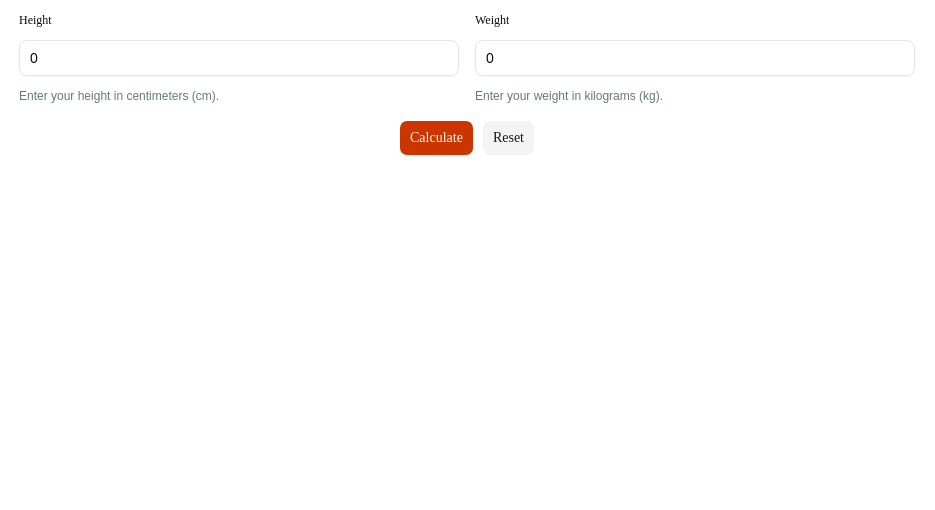
Test: Bmi › onFormSubmit success › calculates bmi for height=170 and weight=65
Replace the text in the field labelled "Height" with "170": (239, 58) [19,40,459,76]
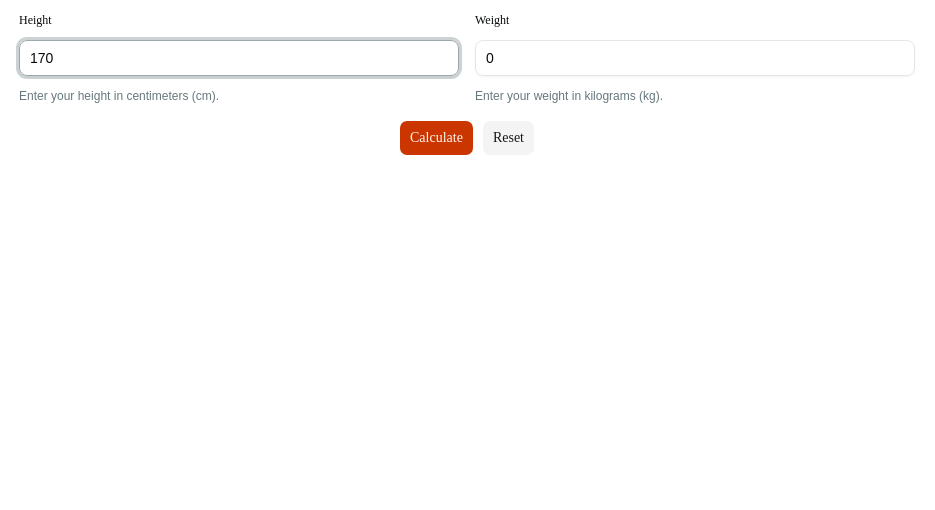
Replace the text in the field labelled "Weight" with "65": (695, 58) [475,40,915,76]
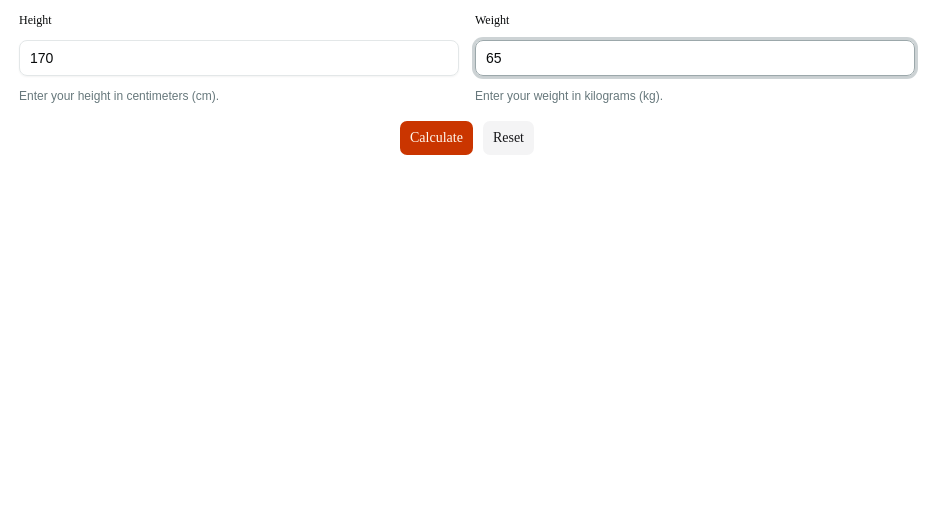
Click the button with aria-label "calculate bmi": (436, 138) [399,120,474,156]
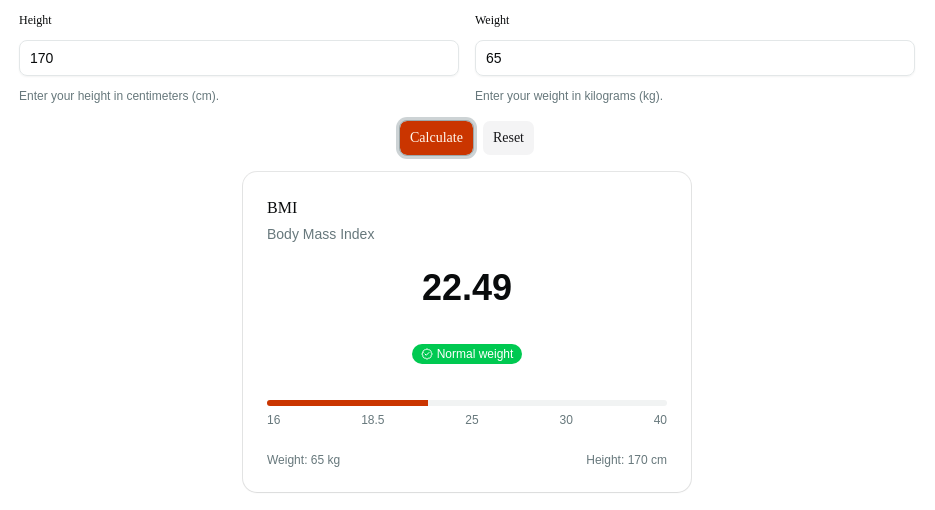
Now the text "Normal weight" is shown, box [412,344,522,364]
